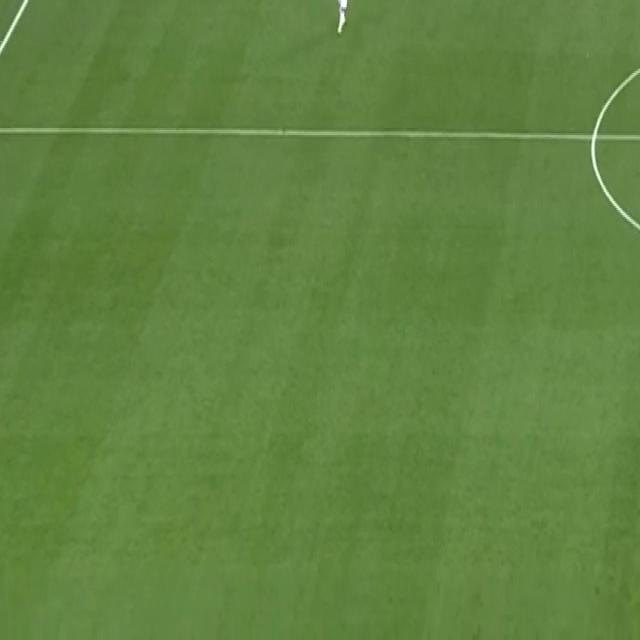player-white: (329, 0, 351, 38)
